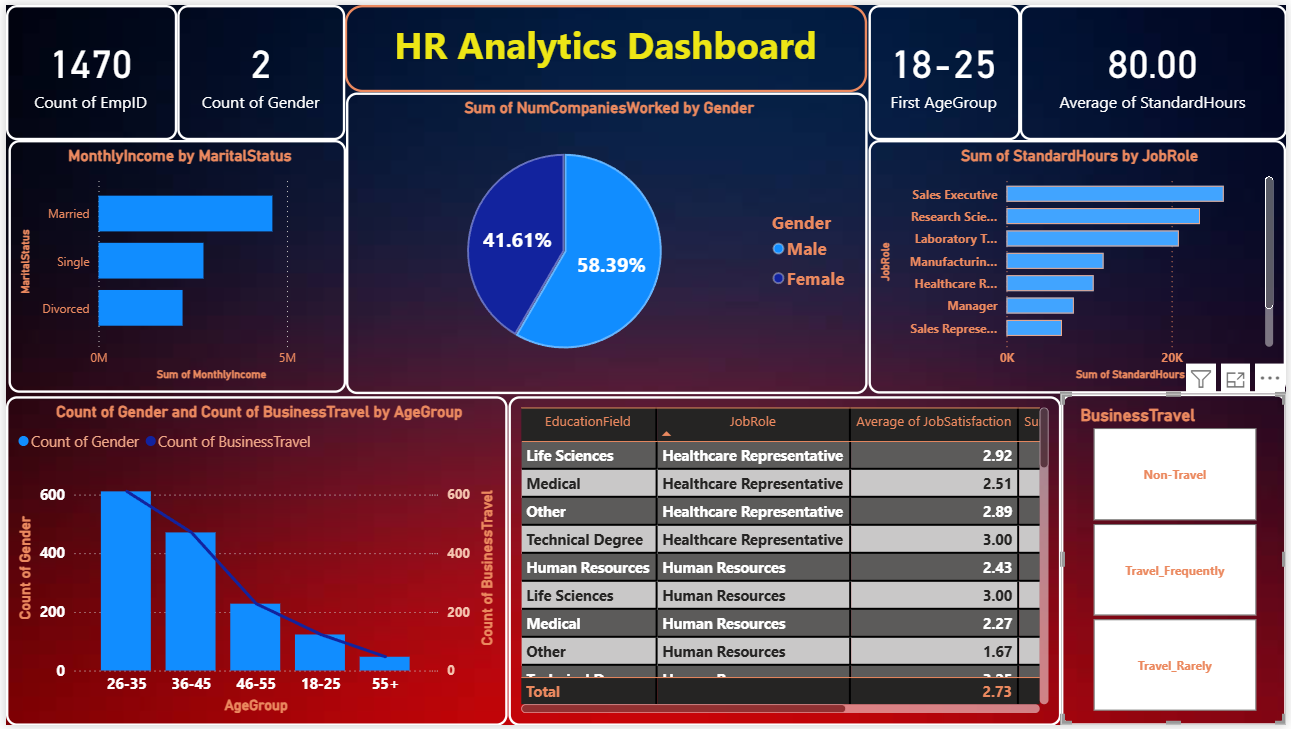

The dashboard page shown, as its layout file describes it:
{"tool":"powerbi","page":{"name":"Page 1","canvas":[1280,720],"ordinal":0},"visuals":[{"type":"textbox","box":[339.2,0,522.8,87.3],"z":0},{"type":"card","fields":{"Values":["Count(HR_Analytics.EmpID)"]},"box":[0,0,170.9,135.4],"z":1000},{"type":"card","fields":{"Values":["Count(HR_Analytics.Gender)"]},"box":[170.9,0,168.4,135.4],"z":2000},{"type":"card","fields":{"Values":["Min(HR_Analytics.AgeGroup)"]},"box":[862,0,151.9,135.4],"z":3000},{"type":"card","fields":{"Values":["Avg(HR_Analytics.StandardHours)"]},"box":[1013.9,0,267.1,135.4],"z":4000},{"type":"clusteredBarChart","title":"MonthlyIncome by MaritalStatus","fields":{"Y":["Sum(HR_Analytics.MonthlyIncome)"],"Category":["HR_Analytics.MaritalStatus"]},"box":[2.5,135.4,338,253.2],"z":5000},{"type":"pieChart","fields":{"Category":["HR_Analytics.Gender"],"Y":["Sum(HR_Analytics.NumCompaniesWorked)"]},"box":[340.5,87.3,521.5,301.3],"z":6000},{"type":"clusteredBarChart","fields":{"Y":["Sum(HR_Analytics.StandardHours)"],"Category":["HR_Analytics.JobRole"]},"box":[862.6,135.1,417.4,253.4],"z":7000},{"type":"slicer","fields":{"Values":["HR_Analytics.BusinessTravel"]},"box":[1054.4,388.5,225.6,331.8],"z":7001},{"type":"tableEx","fields":{"Values":["HR_Analytics.EducationField","HR_Analytics.JobRole","Avg(HR_Analytics.JobSatisfaction)","Sum(HR_Analytics.PercentSalaryHike)","Sum(HR_Analytics.PerformanceRating)"]},"box":[501.9,390.9,552.5,329.4],"z":7002},{"type":"lineClusteredColumnComboChart","fields":{"Category":["HR_Analytics.AgeGroup"],"Y2":["CountNonNull(HR_Analytics.BusinessTravel)"],"Y":["CountNonNull(HR_Analytics.Gender)"]},"box":[0,390.9,501.9,329.4],"z":7003}]}

Visuals, with their boxes in screenshot pixels (x1, y1, x2, y2), scaled from the page's 1280x720 canvas onto the 1291x729 screenshot:
textbox: <region>342, 0, 869, 88</region>
card - Count(HR_Analytics.EmpID): <region>0, 0, 172, 137</region>
card - Count(HR_Analytics.Gender): <region>172, 0, 342, 137</region>
card - Min(HR_Analytics.AgeGroup): <region>869, 0, 1023, 137</region>
card - Avg(HR_Analytics.StandardHours): <region>1023, 0, 1290, 137</region>
"MonthlyIncome by MaritalStatus" clusteredBarChart: <region>3, 137, 343, 393</region>
pieChart - HR_Analytics.Gender x Sum(HR_Analytics.NumCompaniesWorked): <region>343, 88, 869, 393</region>
clusteredBarChart - Sum(HR_Analytics.StandardHours) x HR_Analytics.JobRole: <region>870, 137, 1290, 393</region>
slicer - HR_Analytics.BusinessTravel: <region>1063, 393, 1290, 728</region>
tableEx - HR_Analytics.EducationField x HR_Analytics.JobRole: <region>506, 396, 1063, 728</region>
lineClusteredColumnComboChart - HR_Analytics.AgeGroup x CountNonNull(HR_Analytics.BusinessTravel): <region>0, 396, 506, 728</region>
